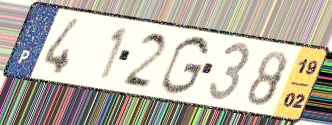1: (97, 25, 130, 83)
2: (118, 31, 171, 91)
3: (206, 40, 254, 105)
4: (39, 16, 83, 77)
8: (245, 49, 290, 108)
G: (158, 34, 211, 97)
